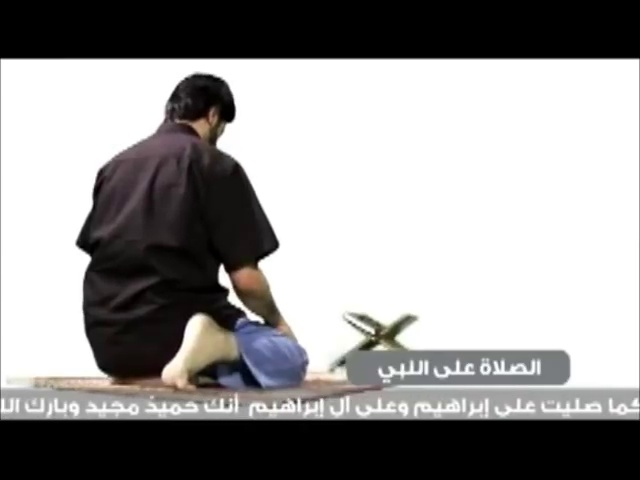sitting: (69, 68, 311, 393)
